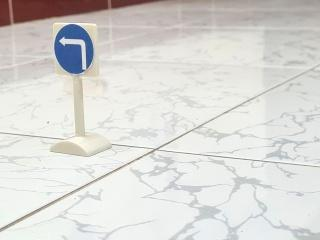left: (50, 20, 99, 78)
